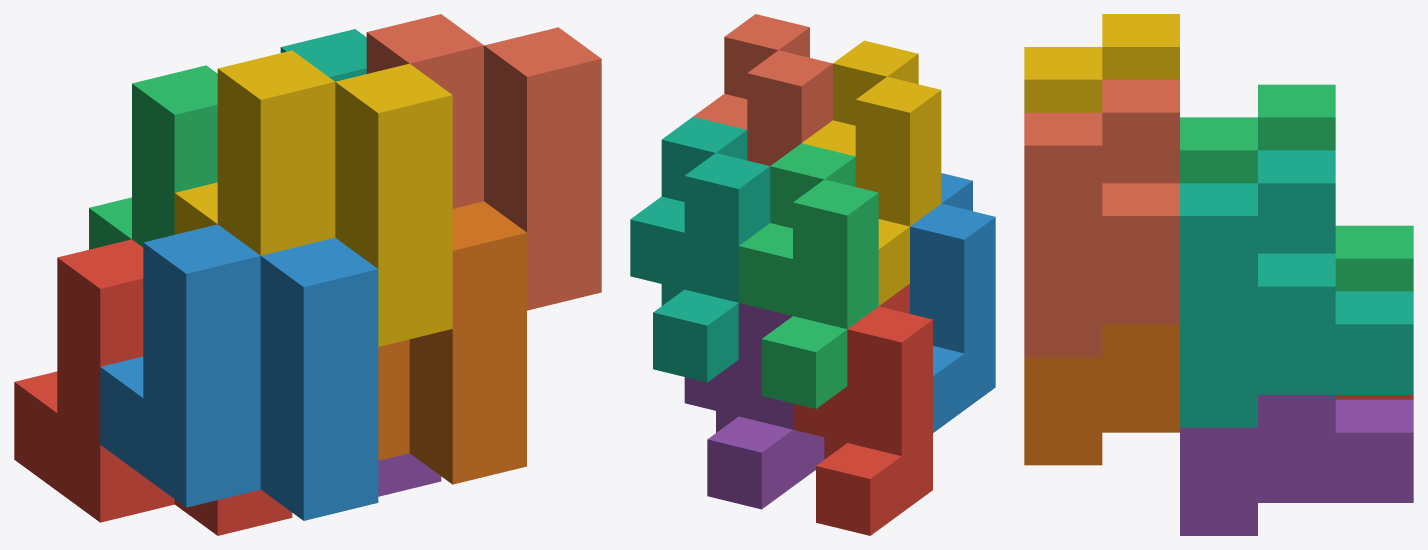
The model's file is tiling.obj.
The picture shows the model from 3 angles, left to right: view 1: azimuth 30°, elevation 25°; view 2: azimuth 150°, elevation 25°; view 3: azimuth 270°, elevation 25°; orthographic projection. The views are drawn at different scales.
Visible parts, largest first — view 1: copy_1_domain_2, copy_1_domain_4, copy_1_domain_8, copy_1_domain_6, copy_1_domain_1, copy_1_domain_3, copy_1_domain_7, copy_1_domain_5; view 2: copy_1_domain_3, copy_1_domain_7, copy_1_domain_1, copy_1_domain_4, copy_1_domain_2, copy_1_domain_5, copy_1_domain_8; view 3: copy_1_domain_7, copy_1_domain_8, copy_1_domain_5, copy_1_domain_6, copy_1_domain_3, copy_1_domain_4.
Boxes of the visible parts, bbox=[...] form: copy_1_domain_2: bbox=[100, 224, 378, 520]; copy_1_domain_4: bbox=[174, 50, 452, 346]; copy_1_domain_8: bbox=[366, 14, 601, 310]; copy_1_domain_6: bbox=[378, 201, 526, 484]; copy_1_domain_1: bbox=[14, 239, 292, 535]; copy_1_domain_3: bbox=[89, 65, 217, 249]; copy_1_domain_7: bbox=[280, 29, 366, 81]; copy_1_domain_5: bbox=[378, 453, 441, 496]; copy_1_domain_3: bbox=[738, 143, 878, 408]; copy_1_domain_7: bbox=[630, 117, 770, 382]; copy_1_domain_1: bbox=[793, 284, 932, 535]; copy_1_domain_4: bbox=[802, 40, 941, 305]; copy_1_domain_2: bbox=[910, 173, 995, 432]; copy_1_domain_5: bbox=[684, 303, 824, 509]; copy_1_domain_8: bbox=[693, 14, 832, 165]; copy_1_domain_7: bbox=[1180, 150, 1413, 427]; copy_1_domain_8: bbox=[1024, 79, 1179, 357]; copy_1_domain_5: bbox=[1180, 395, 1413, 535]; copy_1_domain_6: bbox=[1024, 324, 1179, 465]; copy_1_domain_3: bbox=[1180, 84, 1413, 291]; copy_1_domain_4: bbox=[1024, 14, 1179, 112].
Bounding box in the file's own units: 5 × 6 × 5.
